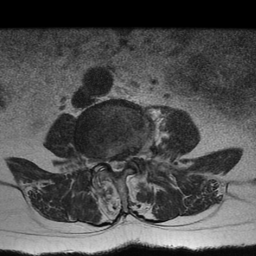CCS_stenosis: (114, 152, 121, 183)
LFS_stenosis: (128, 145, 136, 168)
LLS_stenosis: (121, 152, 128, 176)
RFS_severe_stenosis: (99, 149, 106, 172)
RLS_stenosis: (107, 151, 114, 177)
